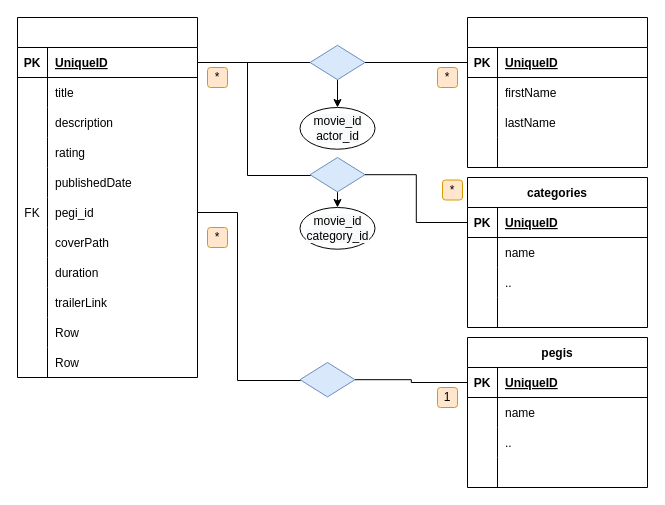
Some shapes in this 665 by 505 pixel diagram are drawn without their labels. Each missing label, with the box of its shape:
actors: (466, 16, 648, 168)
Movies: (16, 16, 198, 378)
